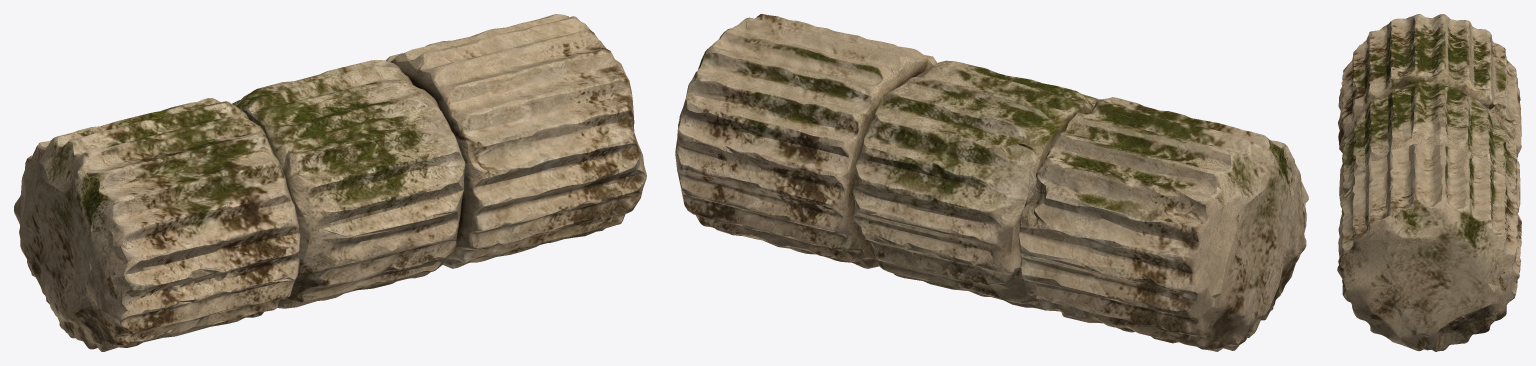
File: sutun_devrik.glb
The picture shows the model from 3 angles, left to right: view 1: azimuth 30°, elevation 25°; view 2: azimuth 150°, elevation 25°; view 3: azimuth 270°, elevation 25°; orthographic projection. The views are drawn at different scales.
Visible parts, largest first — view 1: Mesh_0; view 2: Mesh_0; view 3: Mesh_0.
Part boxes in pixels (x1,y1,x2,y2): Mesh_0: [14, 14, 646, 351]; Mesh_0: [675, 14, 1308, 351]; Mesh_0: [1337, 14, 1521, 351].
Bounding box in the file's own units: 1.9 × 0.6696 × 0.7339.
Materials: 1 (1 with a texture image).
